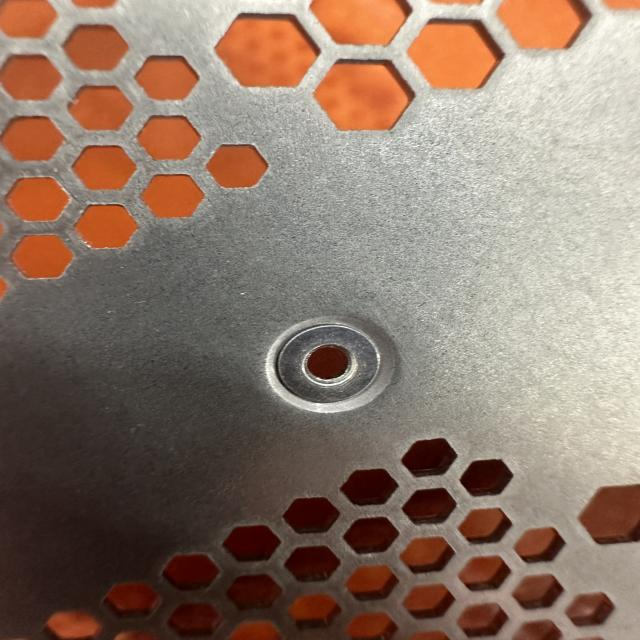Missing screw: (260, 312, 414, 420)
